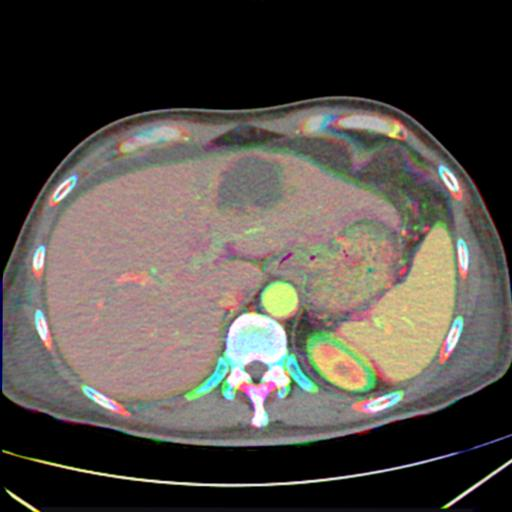Tumor: (217, 156, 283, 208)
